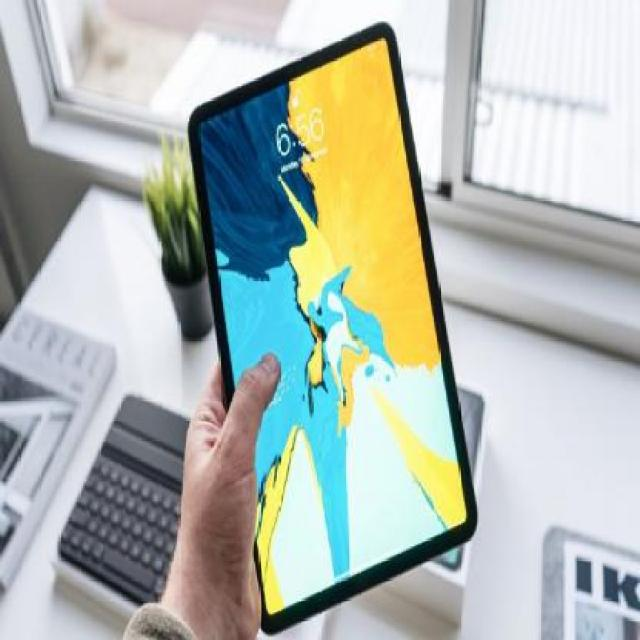tablet: (179, 7, 484, 632)
